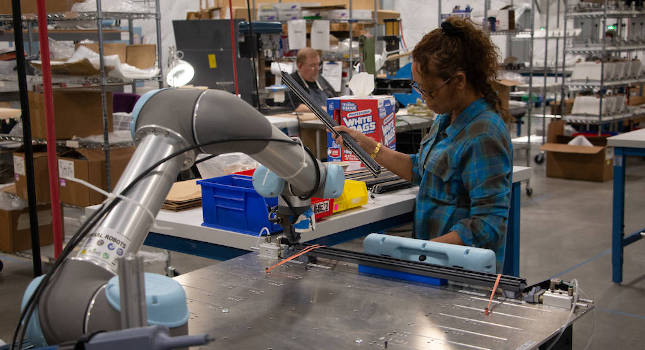person: (326, 17, 515, 286), (283, 46, 344, 115)
robot: (18, 84, 348, 350)
